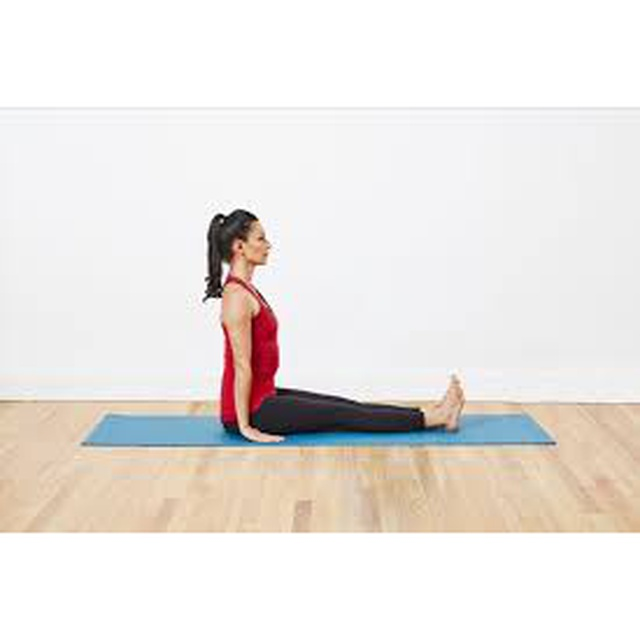Staff_Pose: (202, 209, 466, 444)
